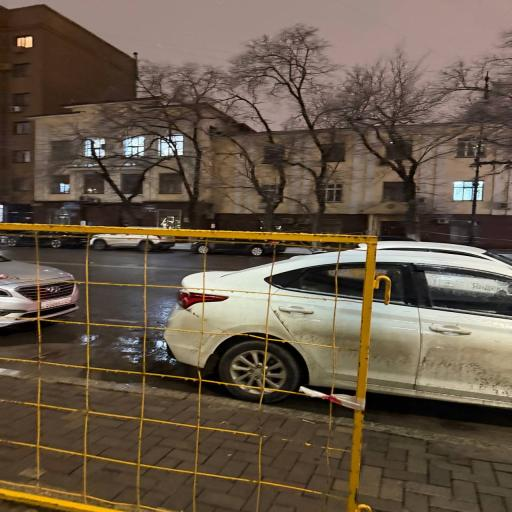chair: (0, 225, 390, 511)
shelf: (0, 370, 350, 511)
